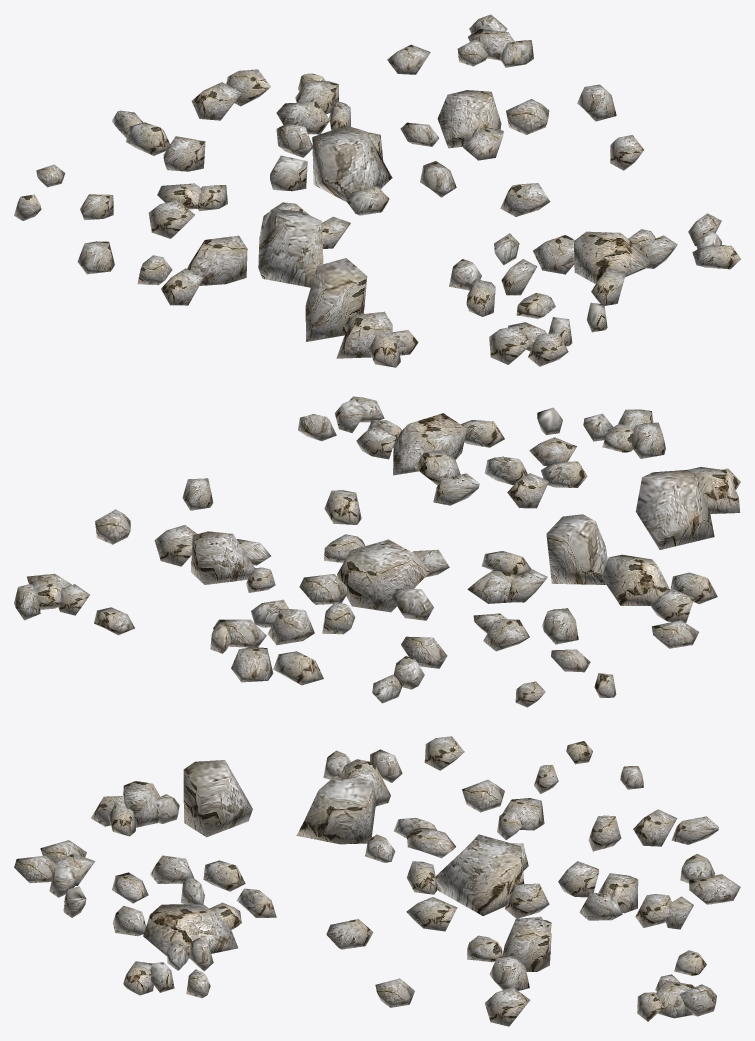
The model's file is SmallRocks3.fbx.
The picture shows the model from 3 angles, top to bottom: view 1: azimuth 30°, elevation 25°; view 2: azimuth 150°, elevation 25°; view 3: azimuth 270°, elevation 25°; orthographic projection.
Visible parts, largest first — view 1: SmallRocks3_LOD0; view 2: SmallRocks3_LOD0; view 3: SmallRocks3_LOD0.
Part boxes in pixels (x1,y1,x2,y2): SmallRocks3_LOD0: (14,14,740,367); SmallRocks3_LOD0: (14,396,740,707); SmallRocks3_LOD0: (14,736,740,1026).
Size of what is drawn, in the model's own units: 233 by 24.06 by 263.
